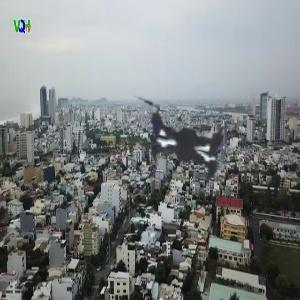drone: (86, 36, 291, 241)
